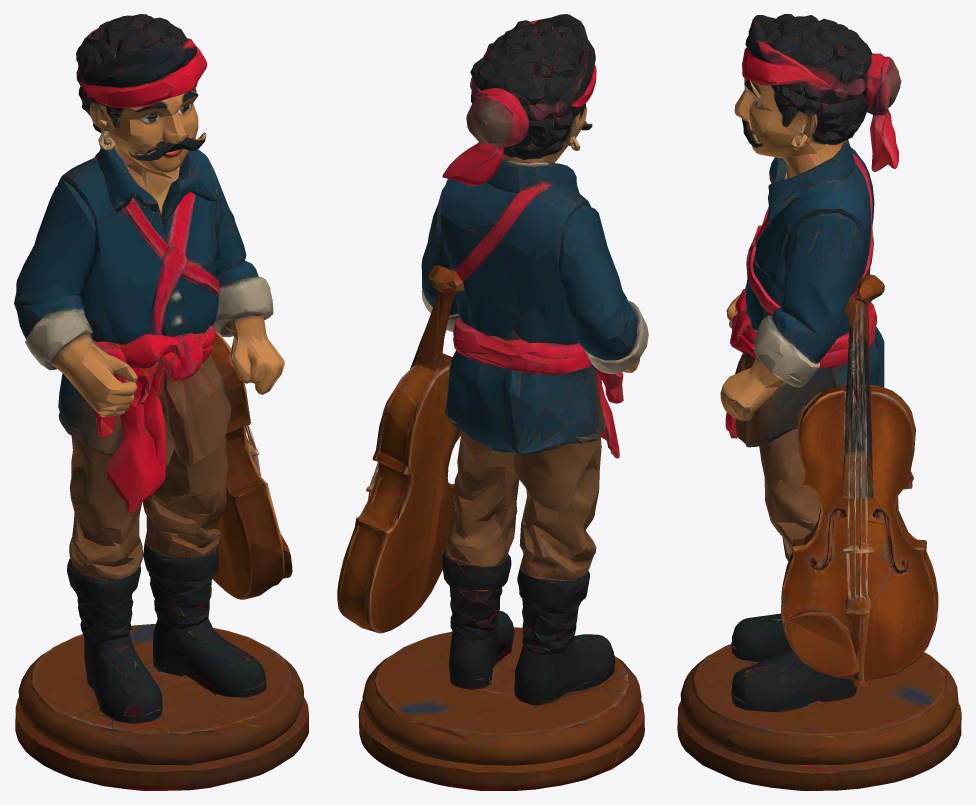
The model's file is caravane-homme.glb.
The picture shows the model from 3 angles, left to right: view 1: azimuth 30°, elevation 25°; view 2: azimuth 150°, elevation 25°; view 3: azimuth 270°, elevation 25°; orthographic projection. The views are drawn at different scales.
Visible parts, largest first — view 1: mesh_node; view 2: mesh_node; view 3: mesh_node.
Part boxes in pixels (x1,y1,x2,y2): mesh_node: (14,14,308,790); mesh_node: (337,14,648,790); mesh_node: (677,14,961,790).
Bounding box in the file's own units: 0.729 × 1.9 × 0.7011.
1 material, 1 textured.
